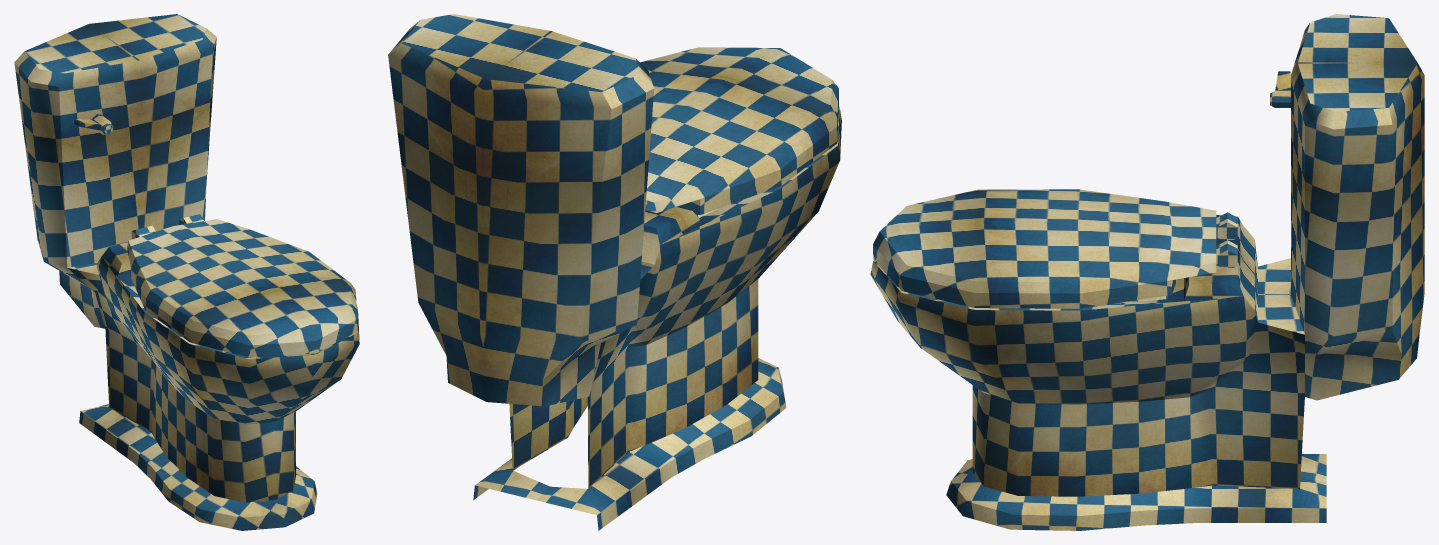
File: Toilet.fbx
The picture shows the model from 3 angles, left to right: view 1: azimuth 30°, elevation 25°; view 2: azimuth 150°, elevation 25°; view 3: azimuth 270°, elevation 25°; orthographic projection. The views are drawn at different scales.
Visible parts, largest first — view 1: Toilet; view 2: Toilet; view 3: Toilet.
Part boxes in pixels (x1,y1,x2,y2): Toilet: (14,14,359,530); Toilet: (388,14,841,530); Toilet: (870,14,1424,530).
Size of the model in its own units: 0.01 by 0.0185 by 0.0215.
